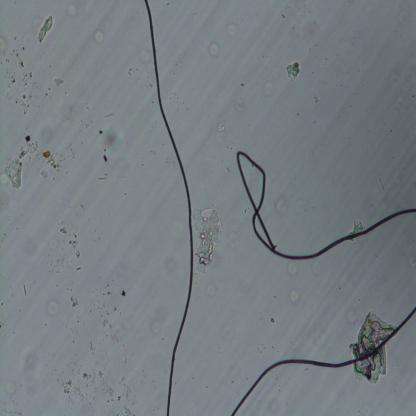Background material: (58, 363, 145, 416), (0, 39, 47, 111), (350, 314, 390, 383), (194, 210, 223, 273), (90, 282, 118, 346), (56, 222, 80, 260), (0, 155, 25, 188), (20, 128, 42, 165), (22, 351, 38, 400), (282, 53, 303, 84), (62, 0, 90, 21), (34, 15, 53, 44), (97, 128, 118, 154), (148, 308, 170, 332), (41, 147, 62, 168), (198, 276, 218, 298), (48, 70, 68, 91), (34, 127, 56, 144), (44, 298, 61, 319), (60, 142, 78, 160), (285, 289, 302, 307), (265, 81, 280, 100), (275, 196, 289, 216), (224, 21, 239, 39), (207, 40, 221, 58), (4, 382, 17, 399), (233, 94, 244, 114), (228, 236, 242, 251), (213, 120, 228, 134), (66, 292, 78, 309), (94, 30, 106, 46), (286, 262, 297, 279), (376, 175, 387, 191), (112, 305, 122, 317), (39, 168, 48, 181), (119, 286, 127, 299), (98, 171, 108, 181), (90, 342, 97, 356), (103, 112, 116, 119), (22, 284, 28, 297), (21, 108, 30, 115), (102, 154, 108, 163), (76, 264, 82, 272), (149, 150, 158, 155)
Microfibre: (142, 0, 200, 416), (230, 303, 416, 416), (234, 149, 416, 262)
